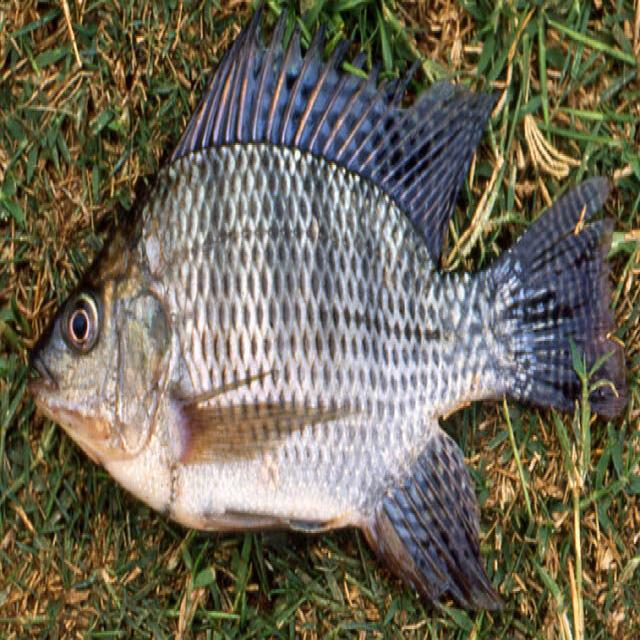ikan: (24, 26, 610, 576)
